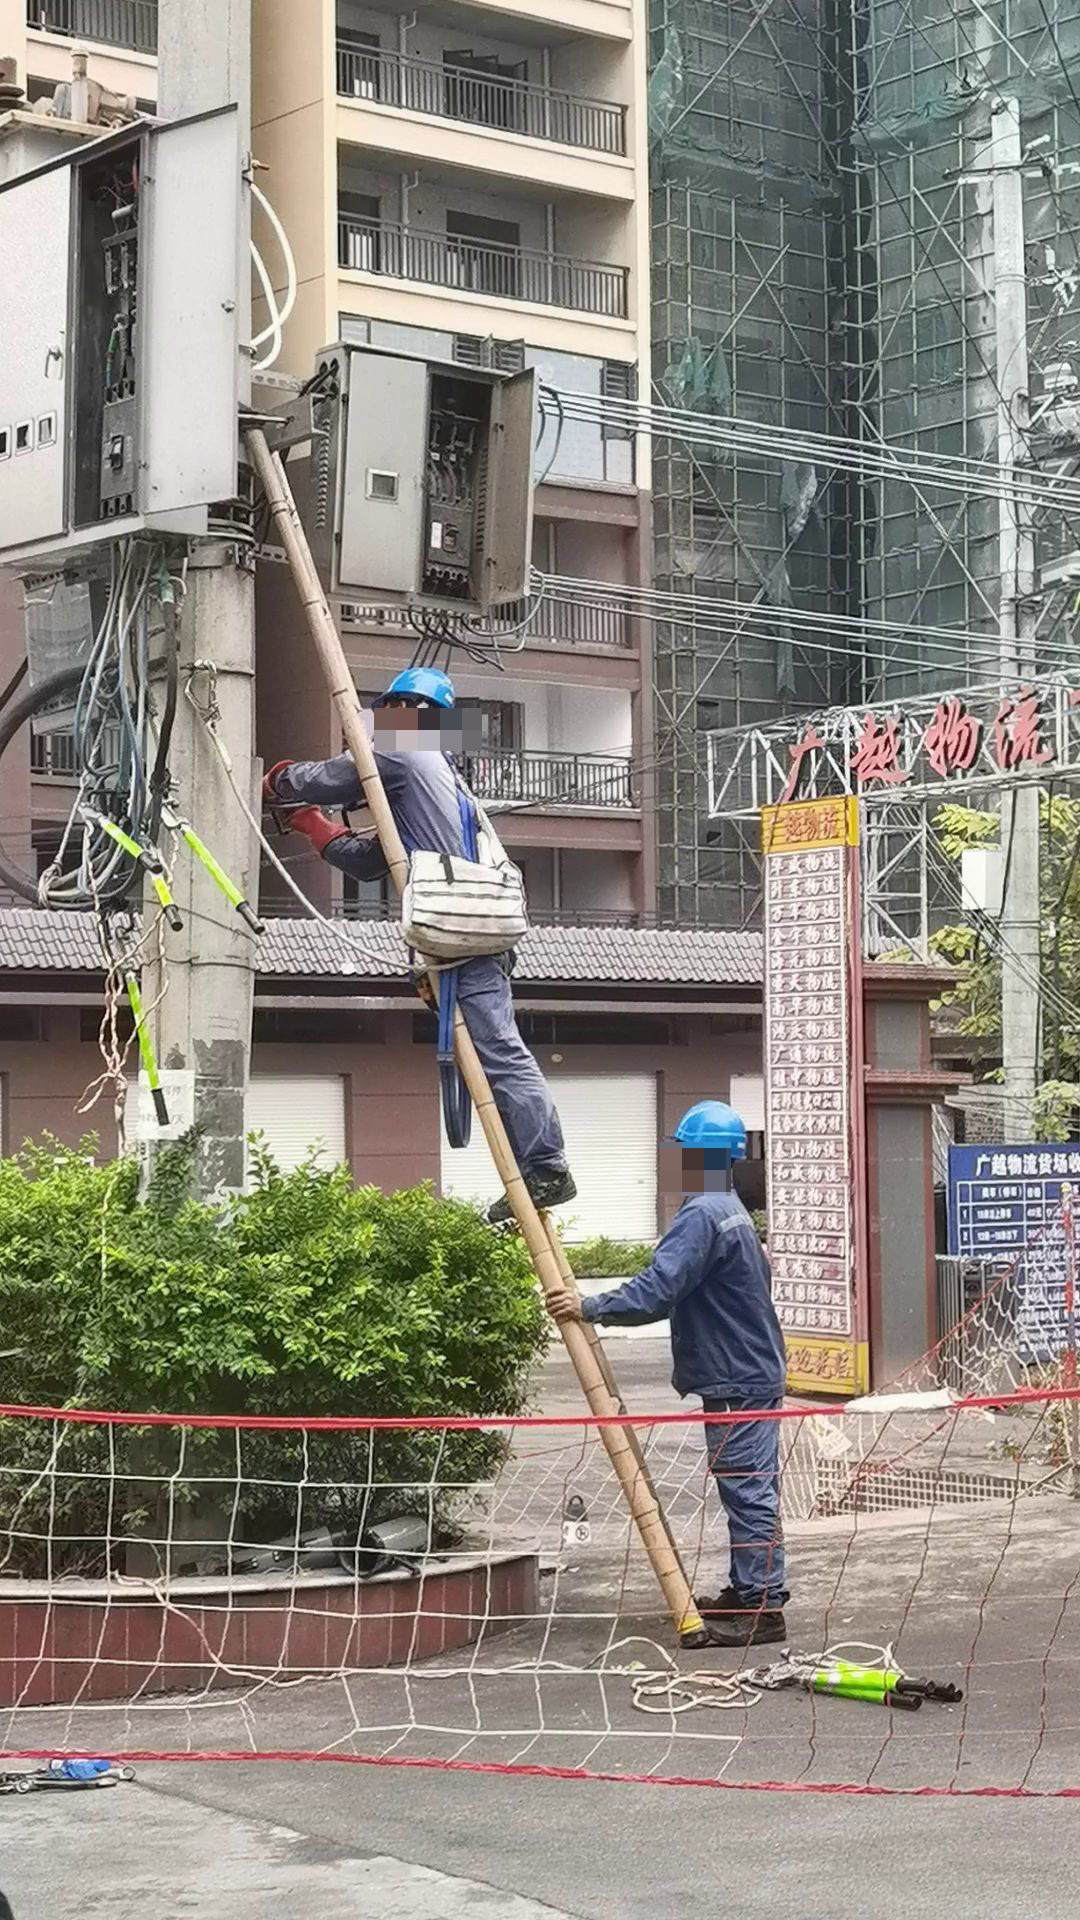downsuit: (454, 963, 564, 1169), (704, 1407, 792, 1592)
halt: (665, 1100, 752, 1180), (372, 665, 459, 733)
hand: (540, 1278, 592, 1336)
inear: (672, 1146, 711, 1193), (385, 695, 419, 737)
longglove: (290, 803, 352, 853), (257, 751, 293, 801)
person: (267, 667, 573, 1192), (583, 1097, 797, 1596)
support: (542, 1092, 805, 1662)
upsuit: (582, 1181, 792, 1390), (284, 729, 494, 865)
